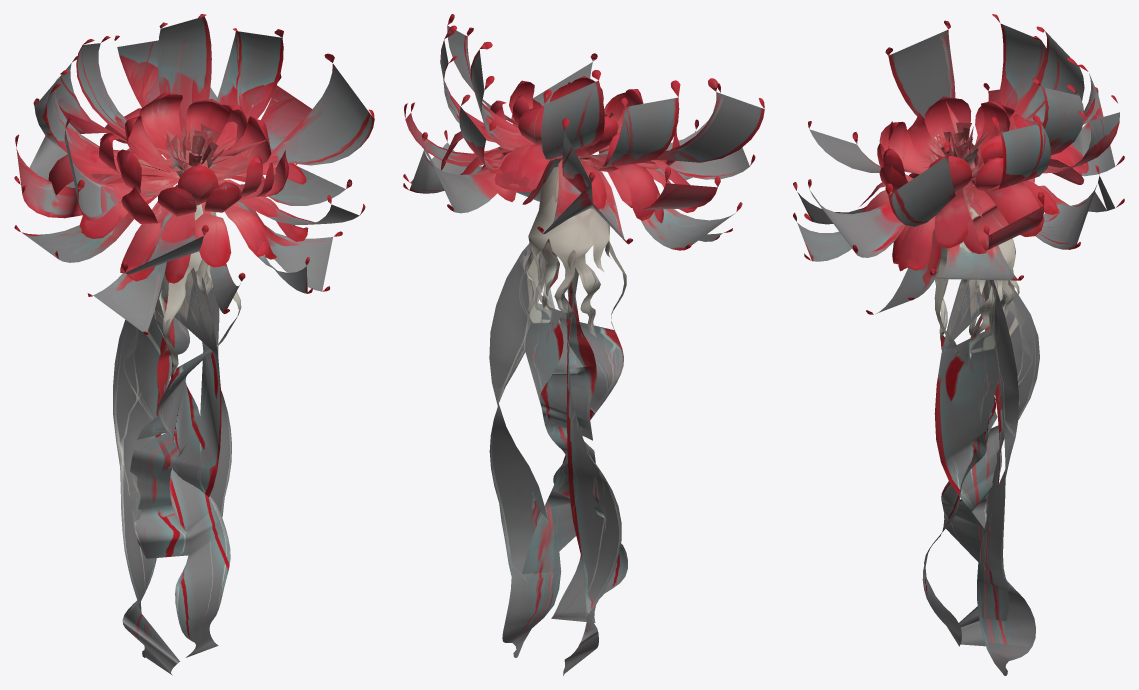
File: spider_lily_rtp.glb
The picture shows the model from 3 angles, left to right: view 1: azimuth 30°, elevation 25°; view 2: azimuth 150°, elevation 25°; view 3: azimuth 270°, elevation 25°; orthographic projection. The views are drawn at different scales.
Visible parts, largest first — view 1: tripo_node_4a0b8a60-d8f8-4bf4-b3fc-698decee6c14; view 2: tripo_node_4a0b8a60-d8f8-4bf4-b3fc-698decee6c14; view 3: tripo_node_4a0b8a60-d8f8-4bf4-b3fc-698decee6c14.
Part boxes in pixels (box(x1,y1,x2,y2)): tripo_node_4a0b8a60-d8f8-4bf4-b3fc-698decee6c14: box(14, 14, 374, 675); tripo_node_4a0b8a60-d8f8-4bf4-b3fc-698decee6c14: box(403, 14, 764, 675); tripo_node_4a0b8a60-d8f8-4bf4-b3fc-698decee6c14: box(793, 14, 1124, 675).
Size of the model in its own units: 0.5161 by 0.9995 by 0.4985.
1 material, 1 textured.
